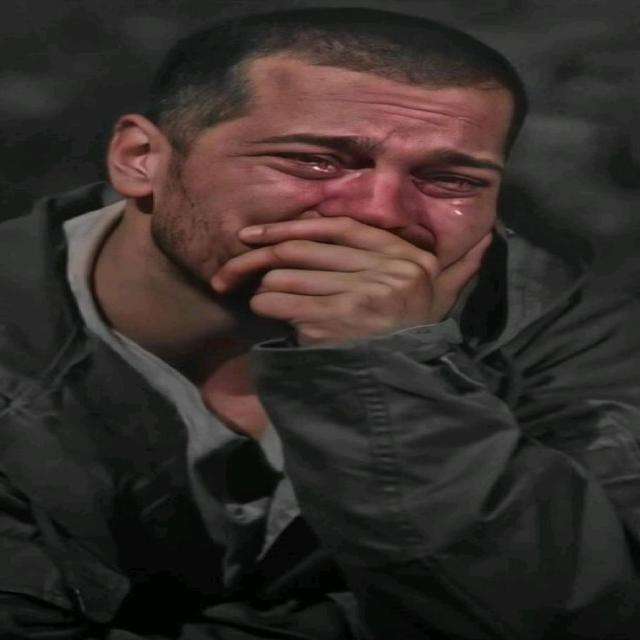sem_oculos: (96, 108, 523, 208)
